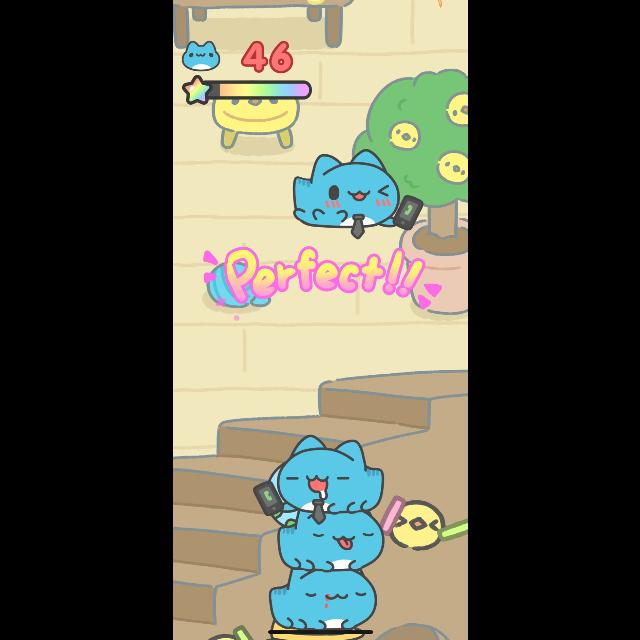capoo: (248, 426, 389, 514), (292, 152, 420, 235), (266, 571, 382, 633), (274, 513, 386, 575)
